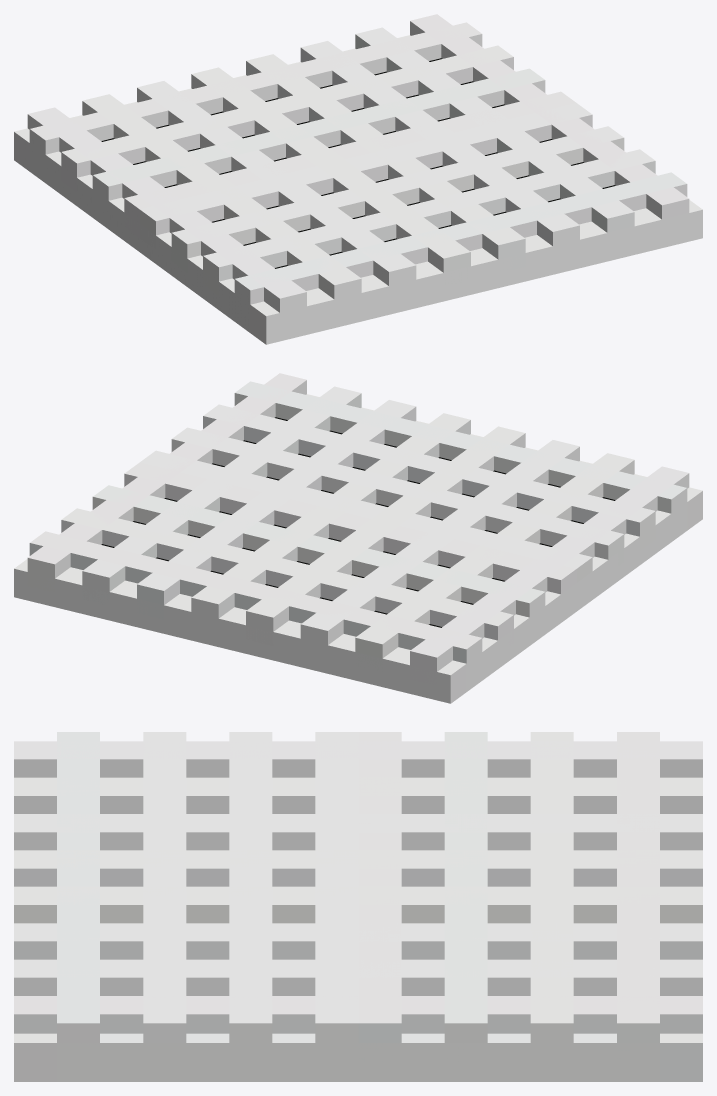
File: floor_tile.gltf
3 views of the same model, one above another, from view 1: azimuth 30°, elevation 25°; view 2: azimuth 150°, elevation 25°; view 3: azimuth 270°, elevation 25° (orthographic). The views are drawn at different scales.
Parts seen in each view (by area): view 1: mesh; view 2: mesh; view 3: mesh.
Boxes of the visible parts, left/top/right/bottom form: mesh: left=14, top=14, right=702, bottom=344; mesh: left=14, top=373, right=702, bottom=703; mesh: left=14, top=732, right=702, bottom=1081.
Bounding box in the file's own units: 2 × 0.1875 × 2.
2 materials, 2 textured.
